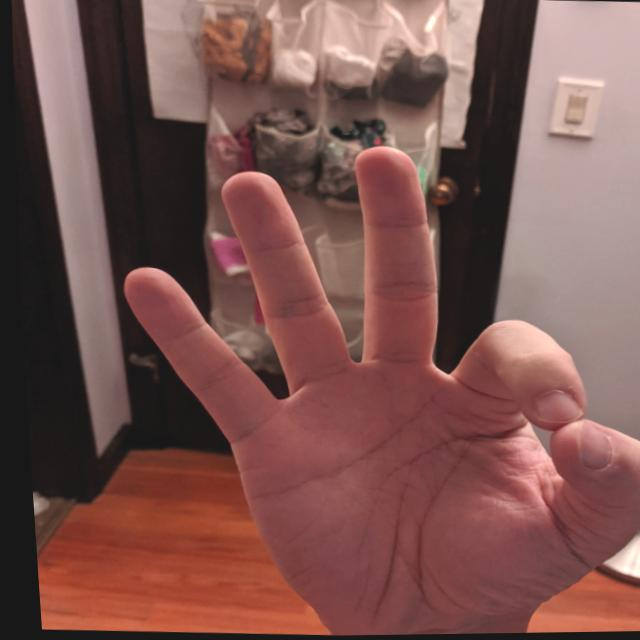F: (89, 128, 639, 639)
